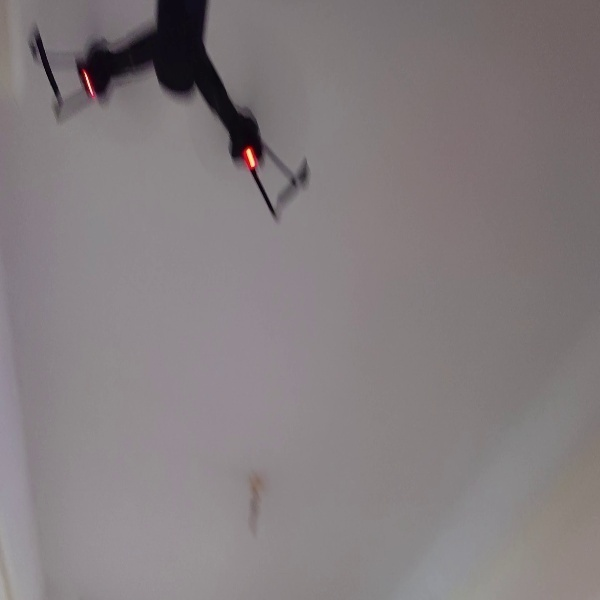drone: (20, 1, 318, 228)
